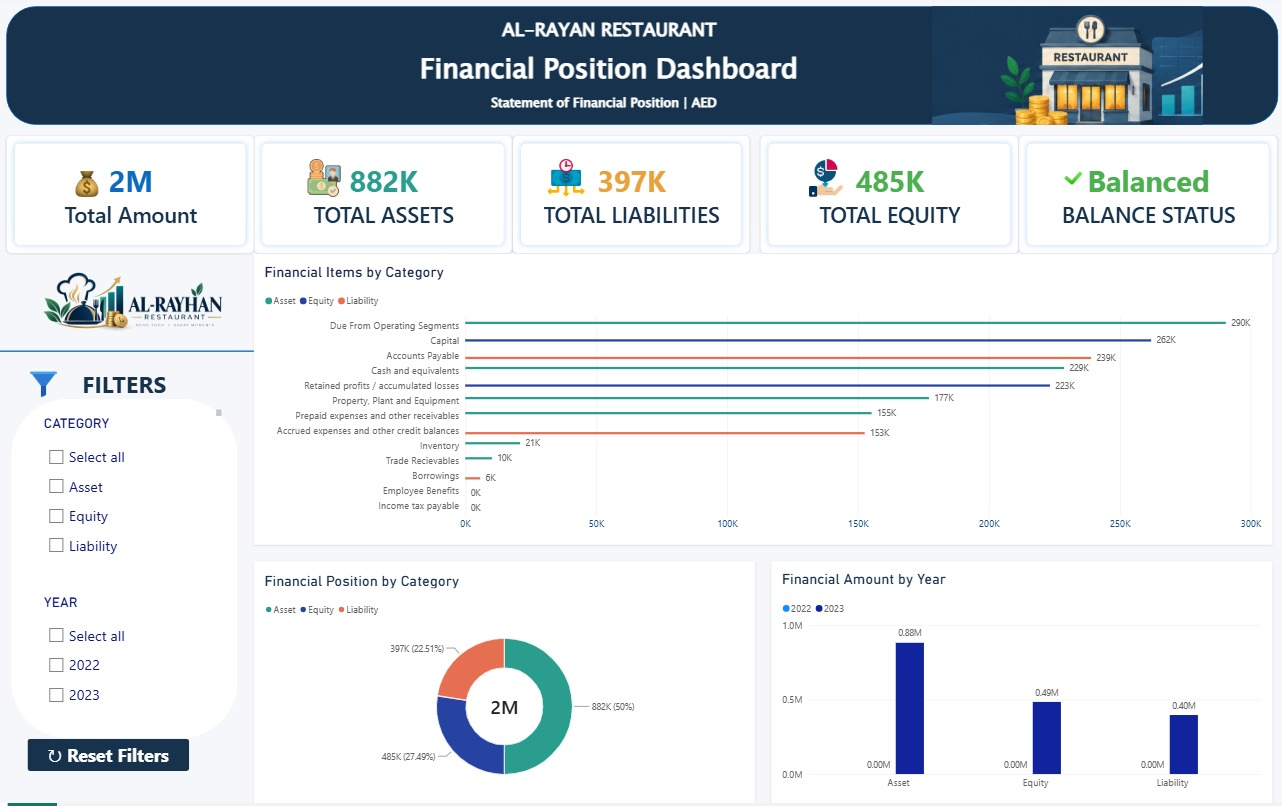

The page's visual inventory and layout, read from the dashboard file:
{"tool":"powerbi","page":{"name":"Page 1","canvas":[1930,1200],"ordinal":0},"visuals":[{"type":"shape","box":[16,16,1888,176],"z":0},{"type":"shape","box":[24,600,336,504],"z":1000},{"type":"cardVisual","fields":{"Data":["Sheet1.Total Assets"]},"box":[384,208,384,176],"z":2000},{"type":"cardVisual","fields":{"Data":["Sheet1.Total Liabilities"]},"box":[768,208,352,176],"z":3000},{"type":"cardVisual","fields":{"Data":["Sheet1.Total Equity"]},"box":[1136,208,384,176],"z":4000},{"type":"cardVisual","fields":{"Data":["Sheet1.Total Amount"]},"box":[16,208,368,176],"z":5000},{"type":"cardVisual","fields":{"Data":["Sheet1.Balance Check"]},"box":[1520,208,384,176],"z":6000},{"type":"textbox","title":"AL-RAYAN RESTAURANT","box":[592,32,640,48],"z":7000},{"type":"textbox","title":"Financial Position Dashboard","box":[368,80,1088,64],"z":8000},{"type":"image","box":[96,256,80,48],"z":9000},{"type":"image","box":[448,240,80,64],"z":10000},{"type":"image","box":[1200,240,64,64],"z":11000},{"type":"image","box":[800,240,96,64],"z":12000},{"type":"image","box":[1584,240,32,64],"z":13000},{"type":"textbox","title":"Statement of Financial Position | AED","box":[336,144,1136,48],"z":14000},{"type":"image","box":[1312,16,560,176],"z":15000},{"type":"clusteredBarChart","title":"Financial Items by Category","fields":{"Category":["Sheet1.Account"],"Y":["Sum(Sheet1.Amount)"],"Series":["Sheet1.Category"]},"box":[384,384,1512,432],"z":16000},{"type":"donutChart","title":"Financial Position by Category","fields":{"Category":["Sheet1.Category"],"Y":["Sheet1.Total Amount"]},"box":[384,840,744,360],"z":17000},{"type":"clusteredColumnChart","title":"Financial Amount by Year","fields":{"Category":["Sheet1.Category"],"Y":["Sheet1.Total Amount"],"Series":["Sheet1.Year"]},"box":[1152,840,744,360],"z":18000},{"type":"image","box":[24,384,360,144],"z":19000},{"type":"textbox","title":"FILTERS","box":[48,552,288,72],"z":20000},{"type":"image","box":[0,552,144,48],"z":21000},{"type":"shape","box":[0,504,384,48],"z":22000},{"type":"slicer","title":"CATEGORY","fields":{"Values":["Sheet1.Category"]},"box":[72,624,264,240],"z":23000},{"type":"slicer","title":"YEAR","fields":{"Values":["Sheet1.Year"]},"box":[72,888,264,192],"z":24000},{"type":"actionButton","box":[48,1104,240,48],"z":25000}]}

Visuals, with their boxes in screenshot pixels (x1, y1, x2, y2), scaled from the page's 1930x1200 canvas onto the 1282x806 screenshot:
shape: locate(11, 11, 1265, 129)
shape: locate(16, 403, 239, 742)
cardVisual - Sheet1.Total Assets: locate(255, 140, 510, 258)
cardVisual - Sheet1.Total Liabilities: locate(510, 140, 744, 258)
cardVisual - Sheet1.Total Equity: locate(755, 140, 1010, 258)
cardVisual - Sheet1.Total Amount: locate(11, 140, 255, 258)
cardVisual - Sheet1.Balance Check: locate(1010, 140, 1265, 258)
"AL-RAYAN RESTAURANT" textbox: locate(393, 21, 818, 54)
"Financial Position Dashboard" textbox: locate(244, 54, 967, 97)
image: locate(64, 172, 117, 204)
image: locate(298, 161, 351, 204)
image: locate(797, 161, 840, 204)
image: locate(531, 161, 595, 204)
image: locate(1052, 161, 1073, 204)
"Statement of Financial Position | AED" textbox: locate(223, 97, 978, 129)
image: locate(871, 11, 1243, 129)
"Financial Items by Category" clusteredBarChart: locate(255, 258, 1259, 548)
"Financial Position by Category" donutChart: locate(255, 564, 749, 805)
"Financial Amount by Year" clusteredColumnChart: locate(765, 564, 1259, 805)
image: locate(16, 258, 255, 355)
"FILTERS" textbox: locate(32, 371, 223, 419)
image: locate(0, 371, 96, 403)
shape: locate(0, 339, 255, 371)
"CATEGORY" slicer: locate(48, 419, 223, 580)
"YEAR" slicer: locate(48, 596, 223, 725)
actionButton: locate(32, 742, 191, 774)
